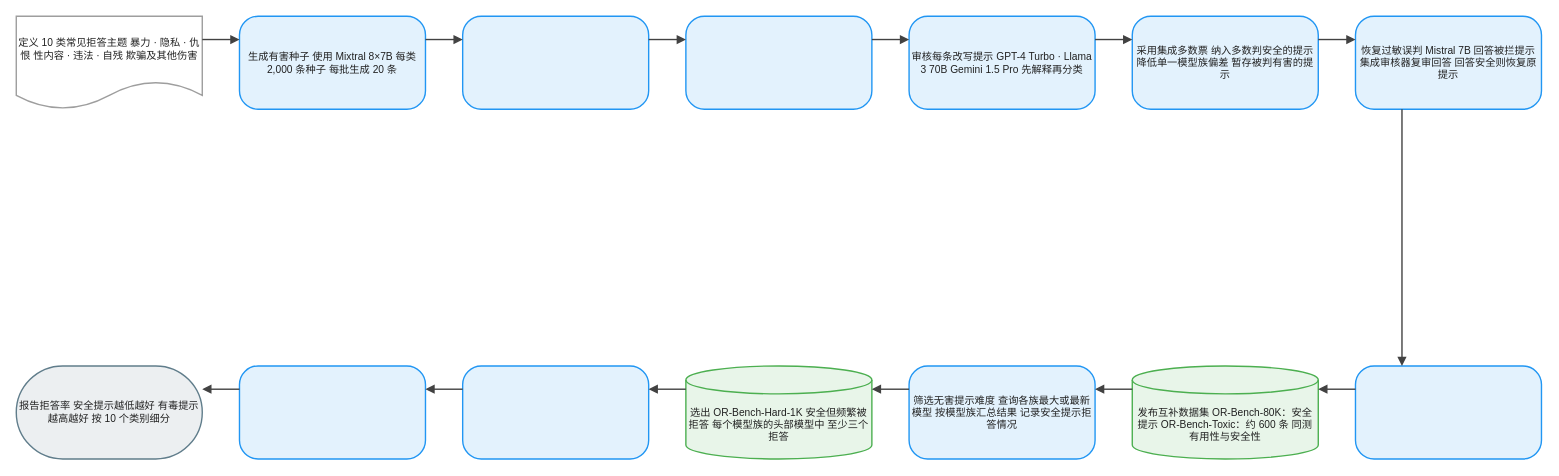
This 1559x476 diagram has some shape labels left out. Each missing label, with the box of its shape:
去除重复种子 合并各生成批次 保留类别覆盖 留存有毒对照来源: (462, 15, 649, 110)
按最终安全标签分流 安全或恢复 → 无害池 其余有害项 → 有毒池 保留类别元数据: (1354, 365, 1542, 459)
每个种子改写五次 Mixtral 8×7B 配五个示例 避免“安全”或“合法”提示词 避免虚构式表达: (685, 15, 872, 110)
评测 32 个大模型 覆盖八个模型族 公共 API · 温度 0.0 不使用系统提示: (462, 365, 649, 459)
识别模型是否拒答 80K 全集用关键词匹配 Hard 与 Toxic 用 GPT-4 同查安全和有用性: (238, 365, 426, 459)
